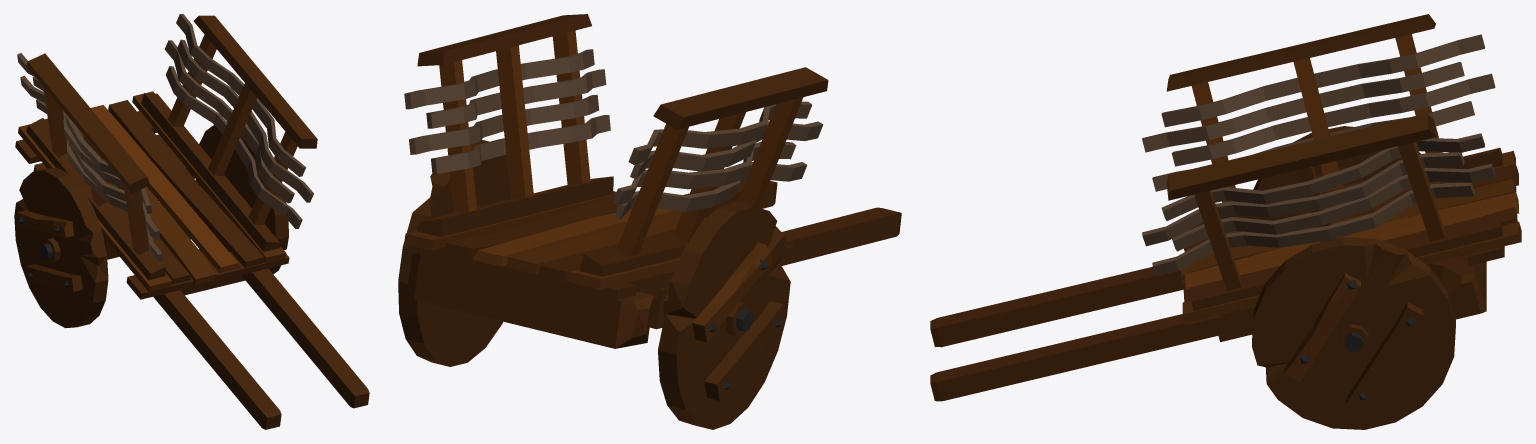
The model's file is wooden_wagon.fbx.
3 renders of one model, left to right at view 1: azimuth 30°, elevation 25°; view 2: azimuth 150°, elevation 25°; view 3: azimuth 270°, elevation 25°, orthographic. The views are drawn at different scales.
Parts seen in each view (by area): view 1: Wooden_wagon; view 2: Wooden_wagon; view 3: Wooden_wagon.
Part boxes in pixels (<box>): Wooden_wagon: <box>14,14,369,429</box>; Wooden_wagon: <box>398,14,901,429</box>; Wooden_wagon: <box>930,14,1521,429</box>.
Size of the model in its own units: 2.94 by 3.08 by 5.39.
